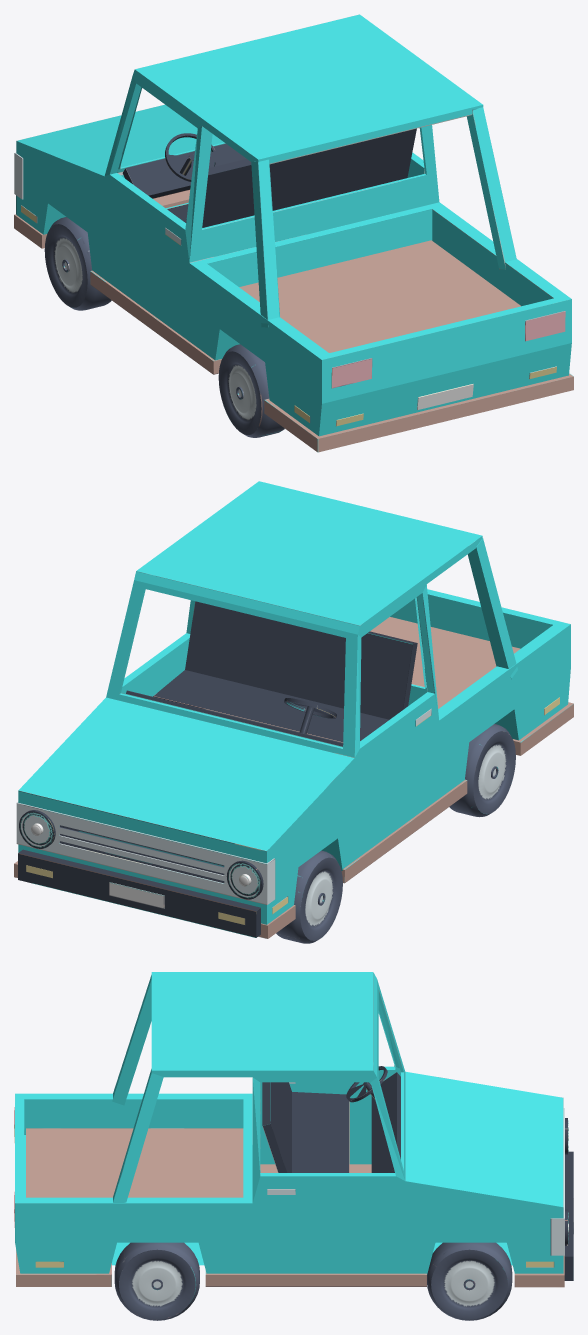
File: car.obj
The picture shows the model from 3 angles, top to bottom: view 1: azimuth 30°, elevation 25°; view 2: azimuth 150°, elevation 25°; view 3: azimuth 270°, elevation 25°; orthographic projection. The views are drawn at different scales.
Parts seen in each view (by area): view 1: Car_Untitled.014; view 2: Car_Untitled.014; view 3: Car_Untitled.014.
Part boxes in pixels (x1=…): Car_Untitled.014: x1=14, y1=14, x2=573, y2=452; Car_Untitled.014: x1=14, y1=481, x2=573, y2=943; Car_Untitled.014: x1=14, y1=972, x2=573, y2=1320.
Size of the model in its own units: 1.55 by 1.58 by 3.24.
